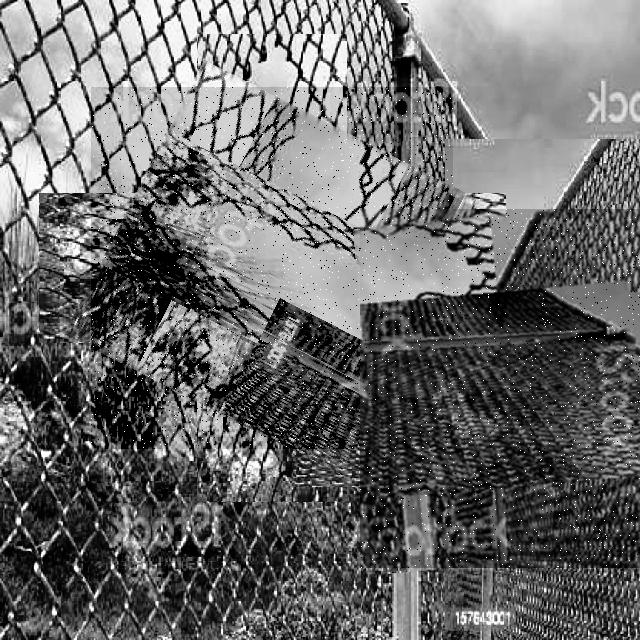anomaly-fence: (91, 87, 453, 449)
fences: (360, 209, 640, 568)
